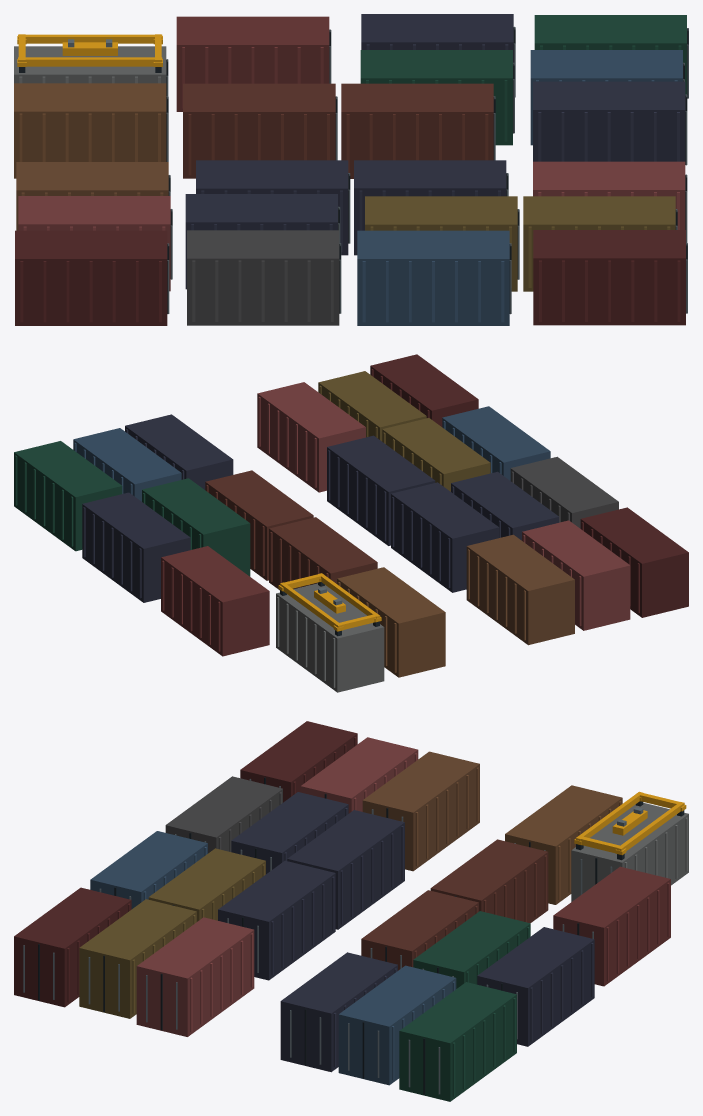
The model's file is containers-nw-se-02.glb.
The picture shows the model from 3 angles, top to bottom: view 1: azimuth 30°, elevation 25°; view 2: azimuth 150°, elevation 25°; view 3: azimuth 270°, elevation 25°; orthographic projection. The views are drawn at different scales.
Visible parts, largest first — view 1: containers-nw-se-02; view 2: containers-nw-se-02; view 3: containers-nw-se-02.
Boxes of the visible parts, bbox=[...] form: containers-nw-se-02: bbox=[14, 14, 688, 325]; containers-nw-se-02: bbox=[14, 354, 688, 692]; containers-nw-se-02: bbox=[14, 721, 688, 1101].
Size of the model in its own units: 75.37 by 8.25 by 66.72.
